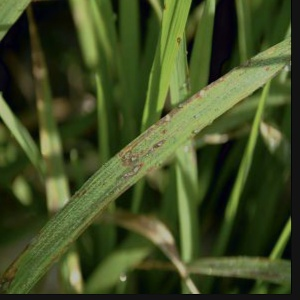Brown_Spot: (120, 157, 152, 186), (150, 137, 176, 159), (117, 144, 136, 167)
